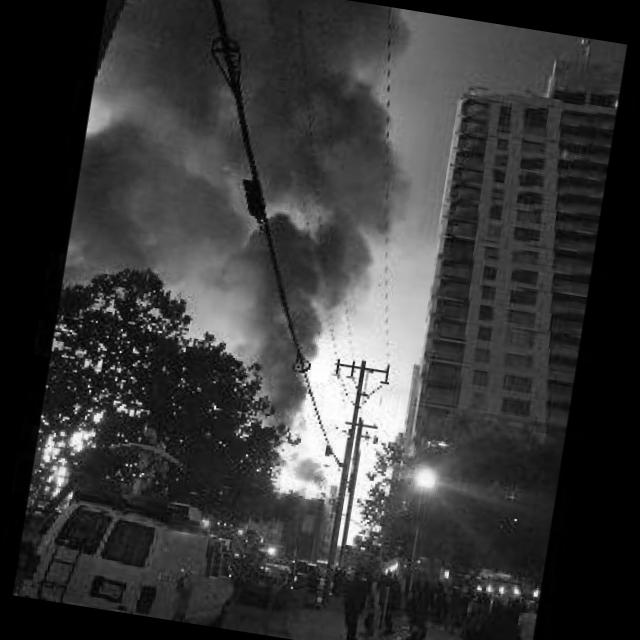fire: (27, 334, 330, 545)
smoke: (48, 0, 438, 415)
